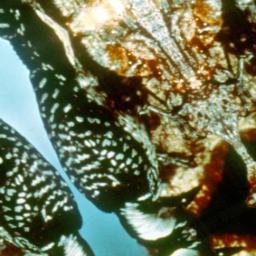Woodpecker: (0, 1, 256, 256)
